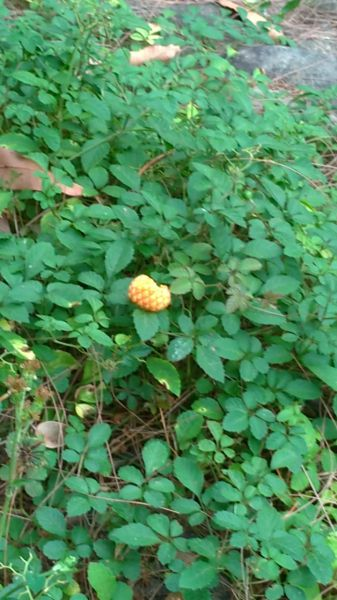eggs: (125, 275, 172, 313)
